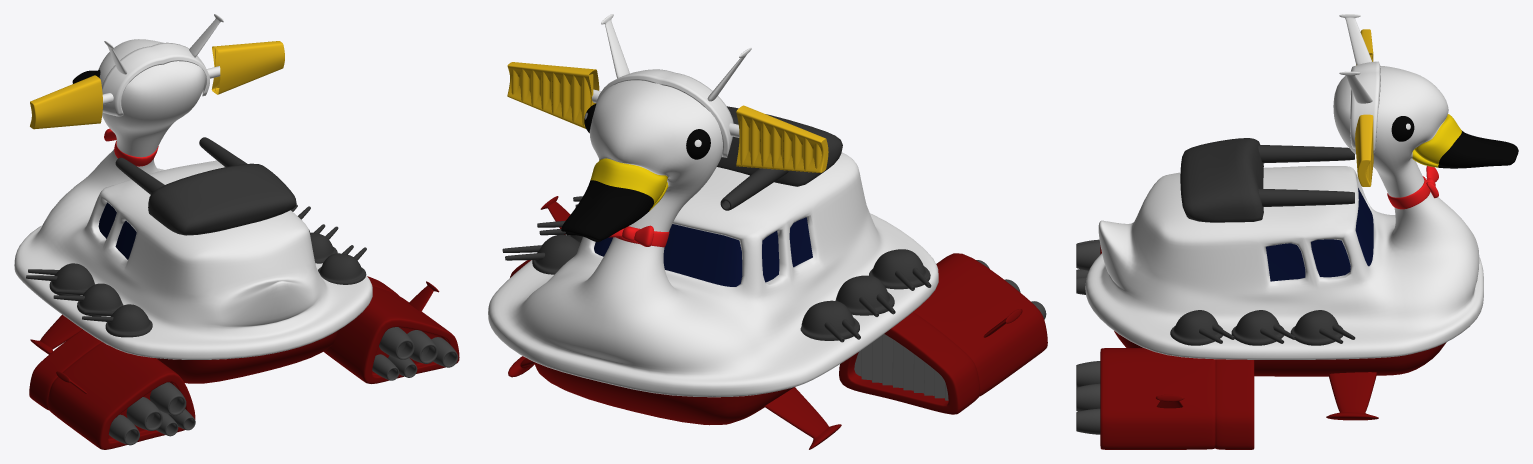
Rendered from swanboat.fbx.
3 views of the same model, side by side, from view 1: azimuth 30°, elevation 25°; view 2: azimuth 150°, elevation 25°; view 3: azimuth 270°, elevation 25° (orthographic). The views are drawn at different scales.
Parts seen in each view (by area): view 1: Anntena; view 2: Anntena; view 3: Anntena.
Boxes of the visible parts, <box> form: Anntena: <box>14,14,459,449</box>; Anntena: <box>488,14,1047,449</box>; Anntena: <box>1076,14,1518,449</box>.
Size of the model in its own units: 2.28 by 2.19 by 1.73.
